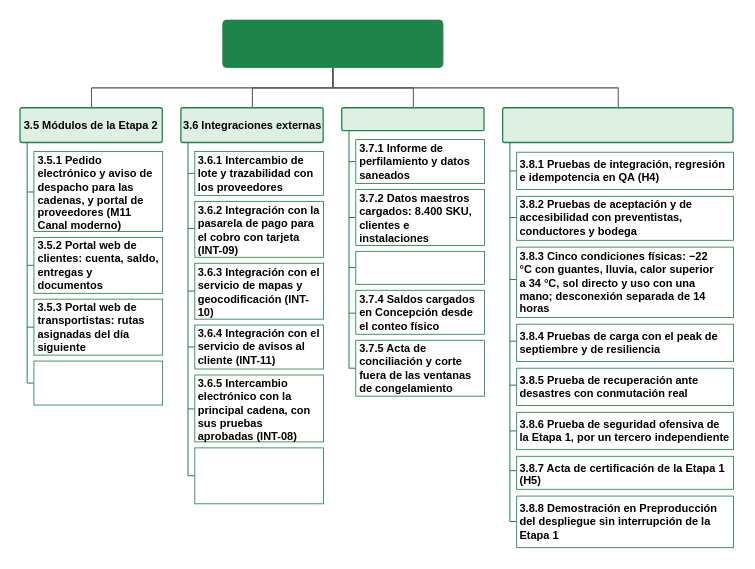
Some shapes in this 755 by 569 pixel diagram are drawn without their labels. Each missing label, with the centre of its shape:
"3. Construcción" goes at pixel 332 43.
"3.5.4 Costo de servir por cliente y por entrega (M10 Analítica)" goes at pixel 97 382.
"3.6.6 Incorporación de las demás cadenas al intercambio electrónico (INT-08)" goes at pixel 258 475.
"3.7 Migración de datos" goes at pixel 412 119.
"3.7.3 Saldos migrados desde el WMS de Talca" goes at pixel 419 267.
"3.8 Pruebas de la Etapa 1" goes at pixel 617 125.
